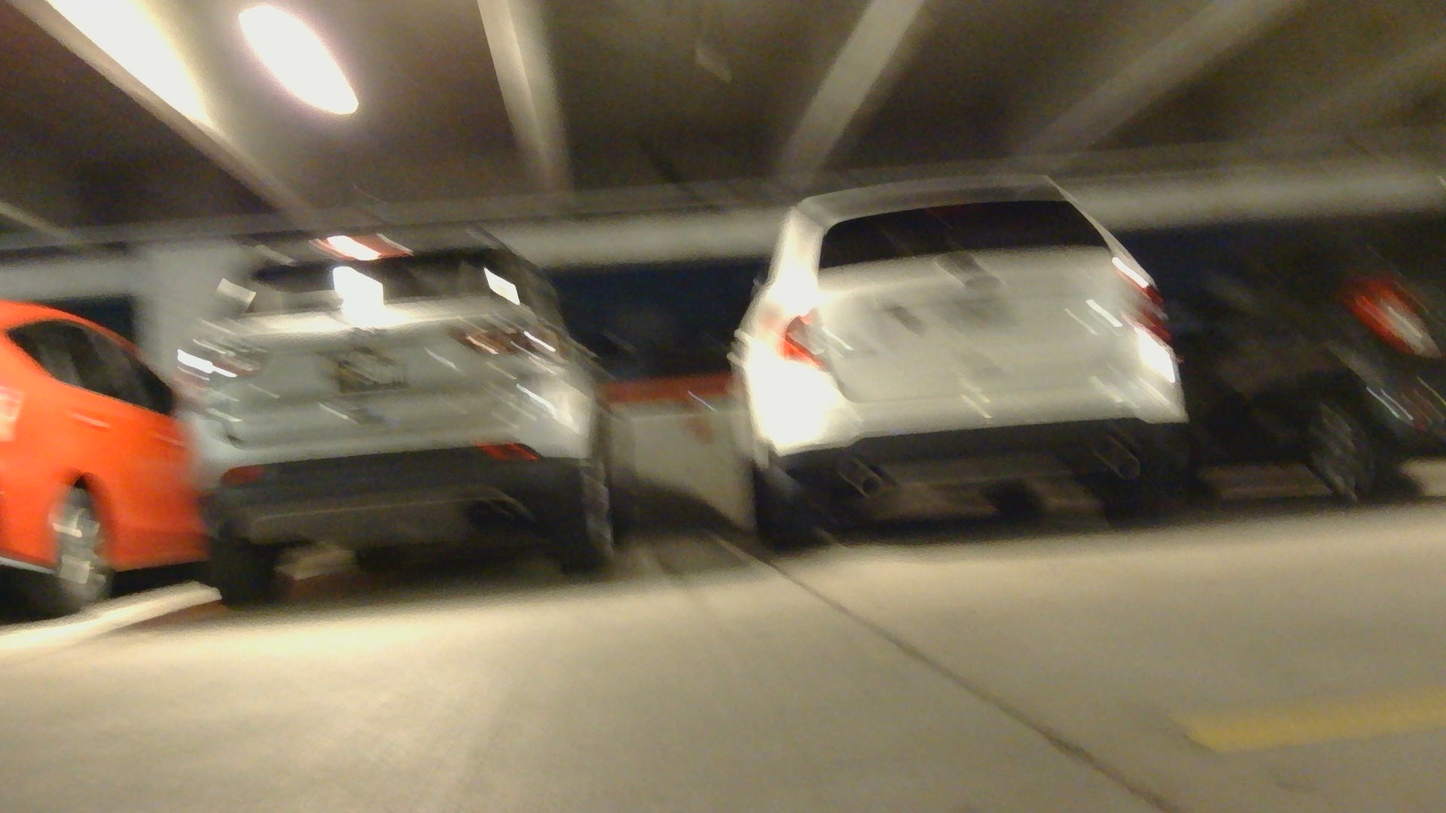occupied_spot: (702, 150, 1211, 590), (147, 193, 643, 623), (1154, 194, 1446, 537), (0, 286, 212, 634)
